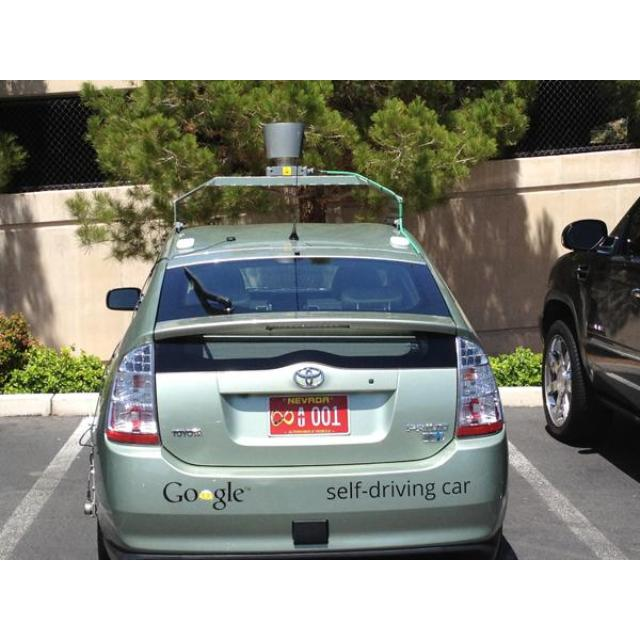car: (72, 124, 512, 558), (538, 192, 640, 466)
plate: (268, 394, 348, 444)
